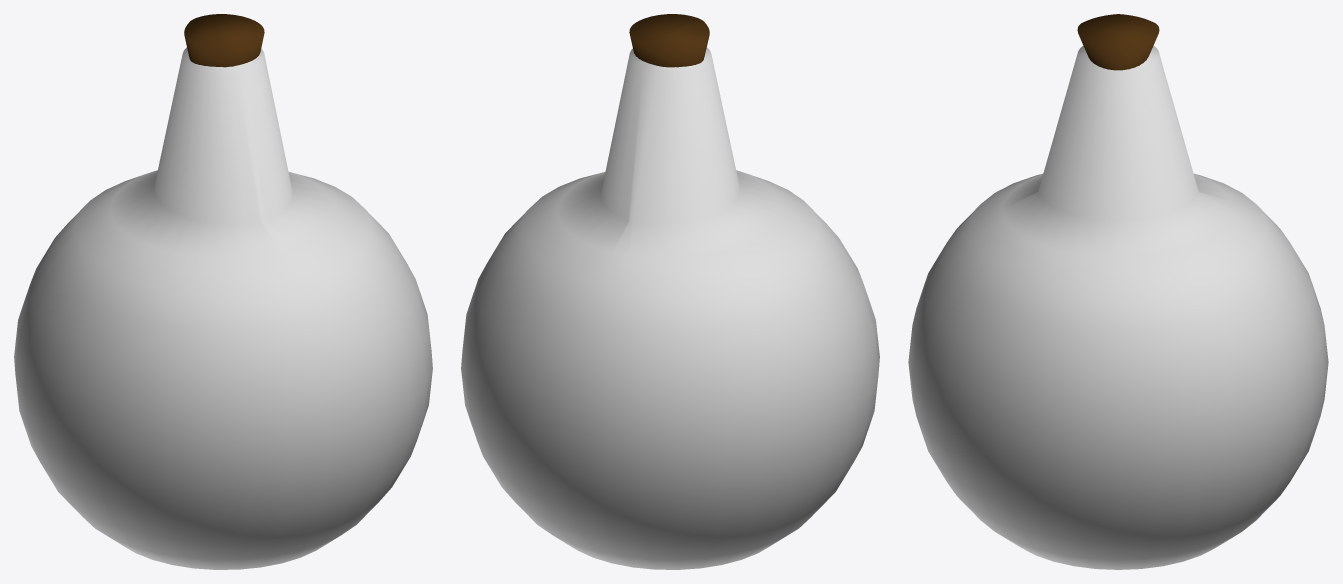
The model's file is source r potion.fbx.
3 views of the same model, side by side, from view 1: azimuth 30°, elevation 25°; view 2: azimuth 150°, elevation 25°; view 3: azimuth 270°, elevation 25° (orthographic).
Visible parts, largest first — view 1: Sphere, Cylinder; view 2: Sphere, Cylinder; view 3: Sphere, Cylinder.
Part boxes in pixels (x1,y1,x2,y2): Sphere: (14,47,432,569); Cylinder: (184,14,264,67); Sphere: (461,47,879,569); Cylinder: (629,14,709,67); Sphere: (908,45,1328,569); Cylinder: (1077,14,1159,70).
Size of the model in its own units: 200 by 259 by 200.
